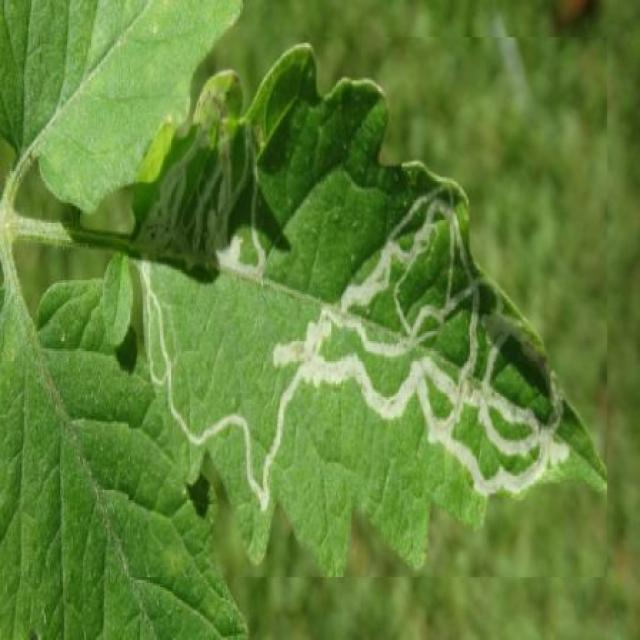Leaf Miner: (129, 38, 607, 578)
